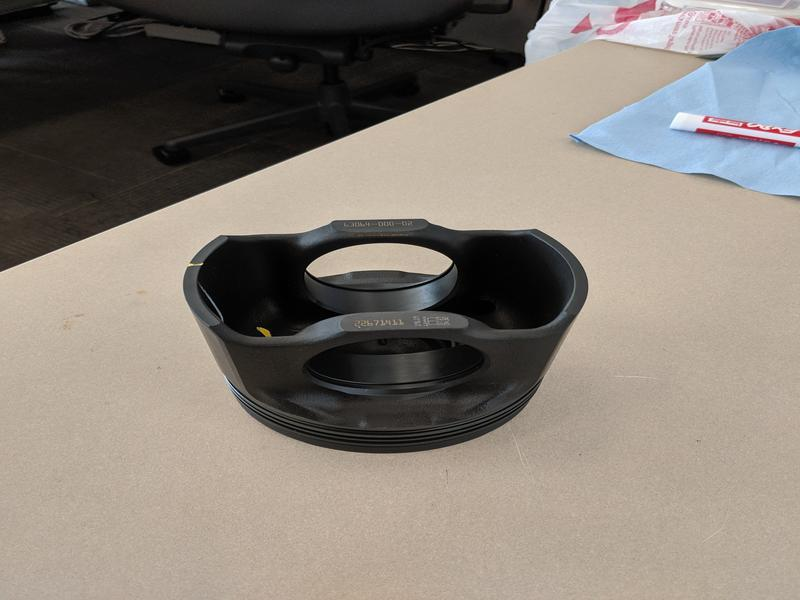piston: (176, 219, 596, 457)
